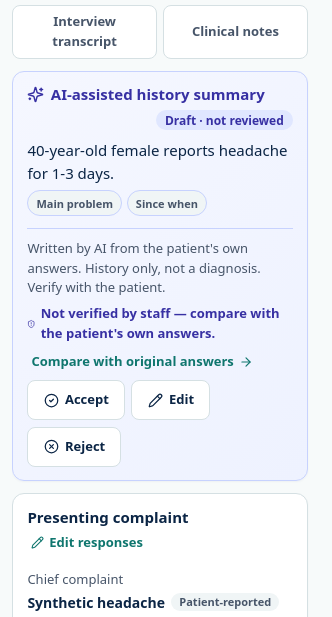
Scenario: Phase 7.4 doctor consultation › lets a doctor accept or rewrite the AI draft, with the version they reviewed
(page scrolled)
Click the button "Accept": (76, 400) left=27, top=380, right=125, bottom=420
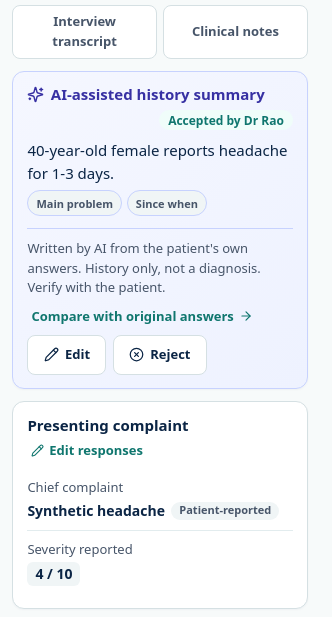
Click the button "Edit": (67, 355) left=27, top=335, right=106, bottom=375
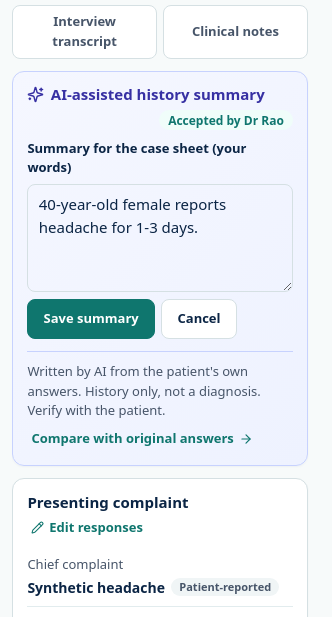
Now the text box labelled "Summary for the case sheet (your words)" holds "40-year-old female reports headache for 1-3 days."
Replace the text in the text box labelled "Summary for the case sheet (your words)" with "Headache for two days.": (160, 238) left=27, top=184, right=293, bottom=292
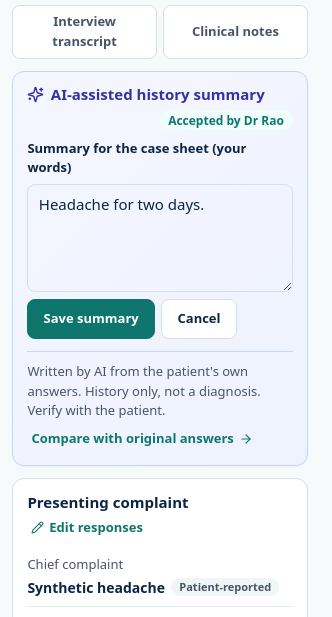
Click the button "Save summary": (91, 319) left=27, top=299, right=155, bottom=339
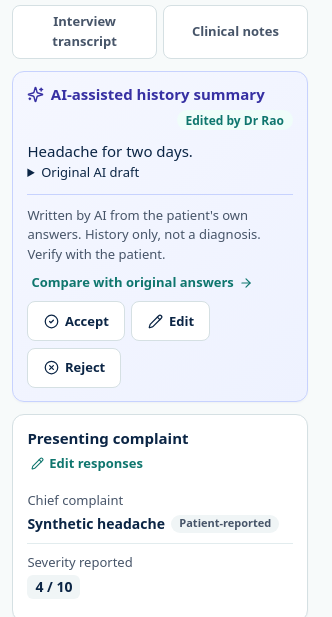
Now the heading "Original AI draft" is shown, box left=41, top=163, right=139, bottom=181
